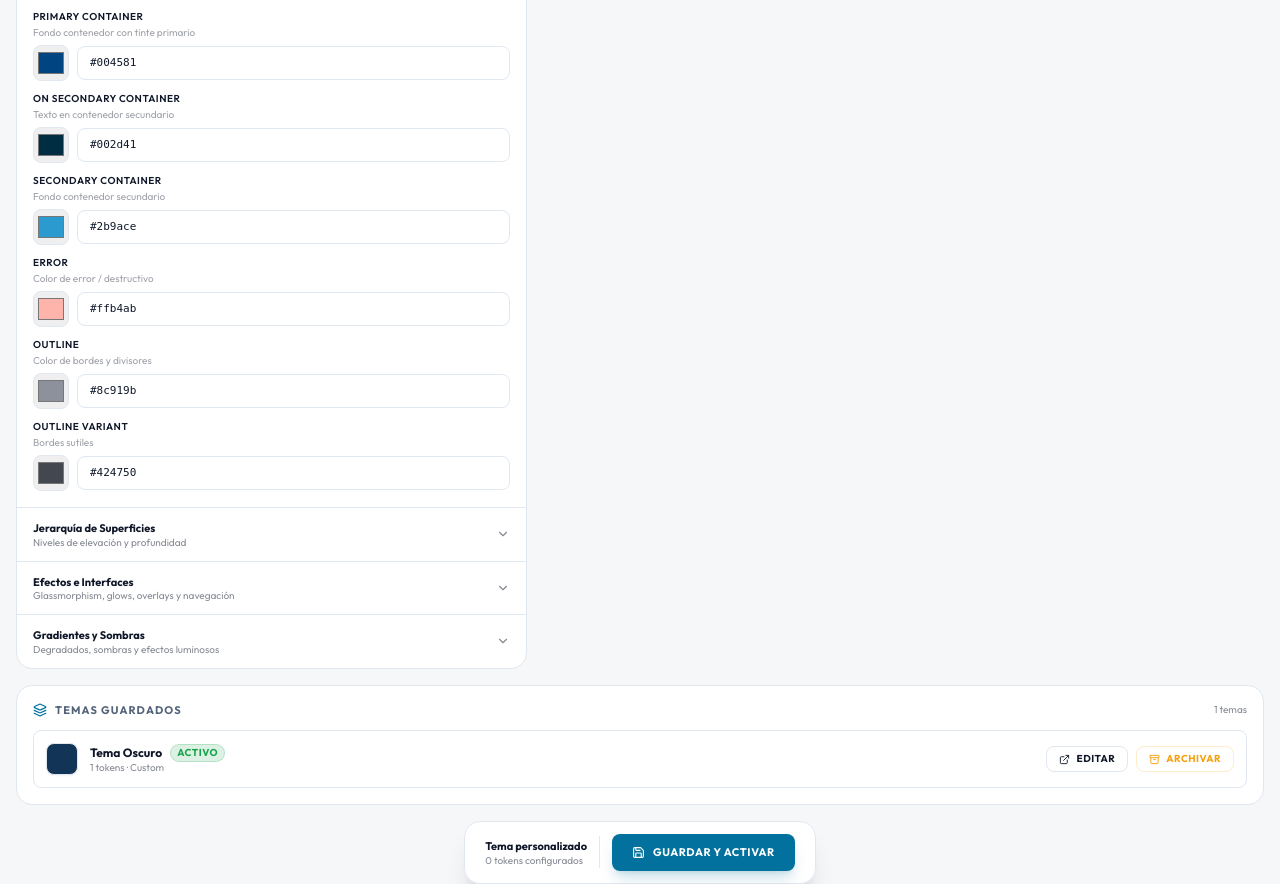
Scenario: CmsThemesPage › edita y actualiza un tema existente
(page scrolled)
Expected: the text "Tema Oscuro" is shown, x1=90 y1=745 x2=162 y2=760
Click the button "Editar" at (1087, 759), box x1=1046 y1=746 x2=1128 y2=772
(page scrolled)
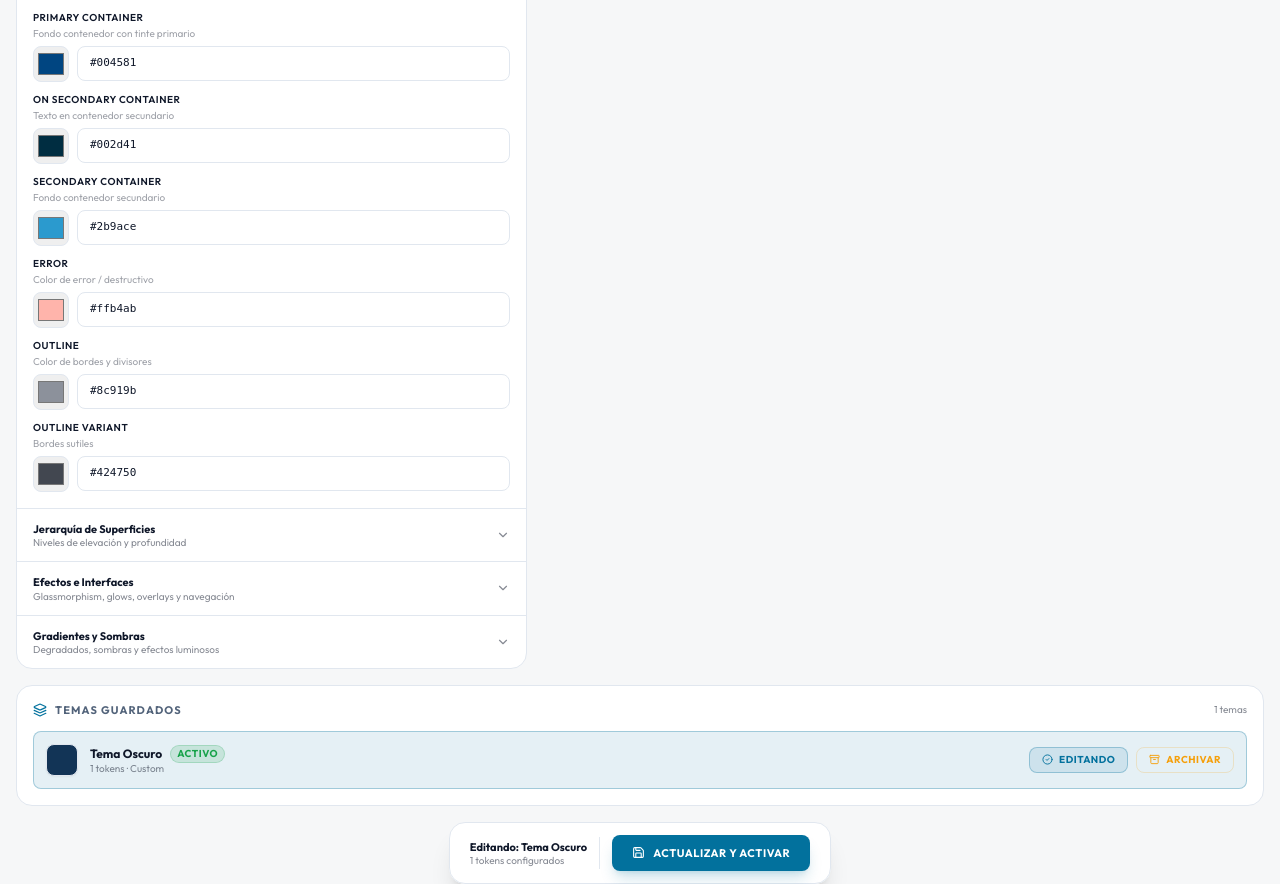
Click the button "Actualizar y activar" at (711, 853), box x1=612 y1=834 x2=810 y2=871
(page scrolled)
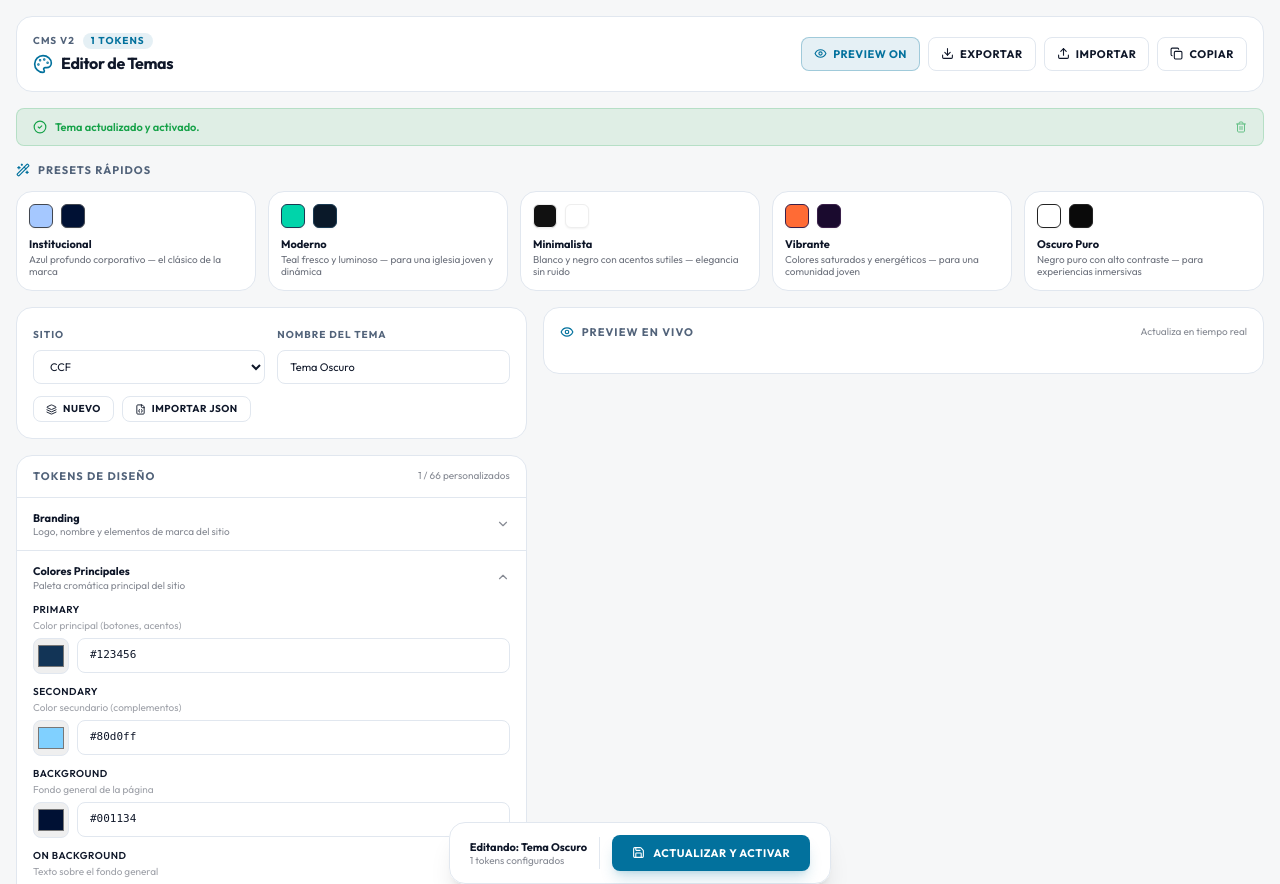
Expected: the text "Tema actualizado y activado." is shown, x1=16 y1=108 x2=1264 y2=146
